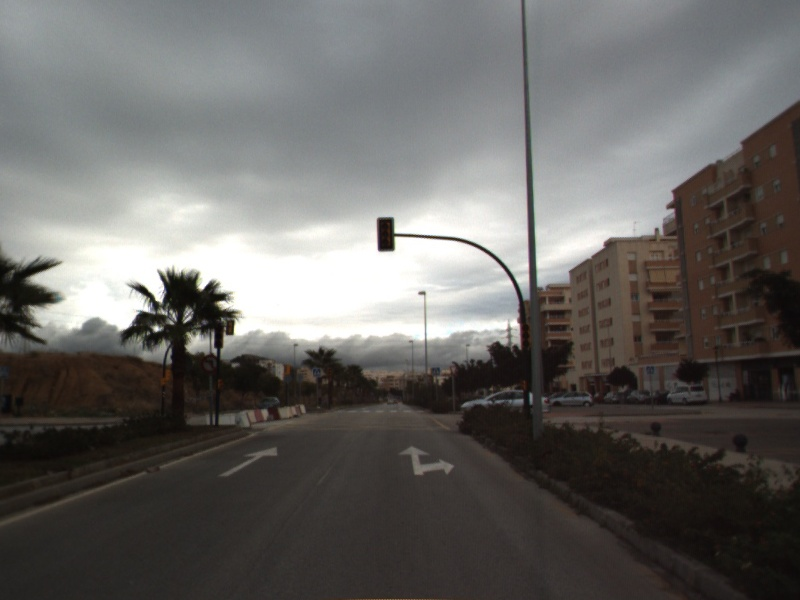STRAIGHT: (216, 444, 279, 478)
STRAIGHT_RIGHT: (396, 443, 457, 477)
